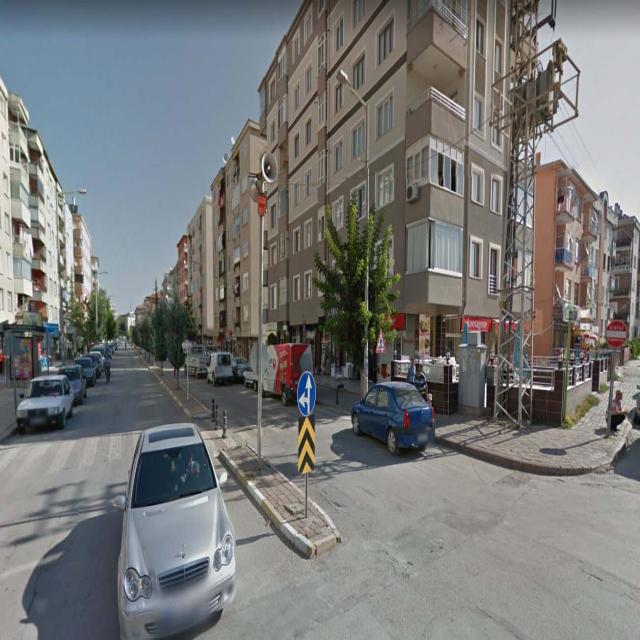girisyok: (606, 320, 628, 352)
ilerisol: (296, 368, 317, 419)
